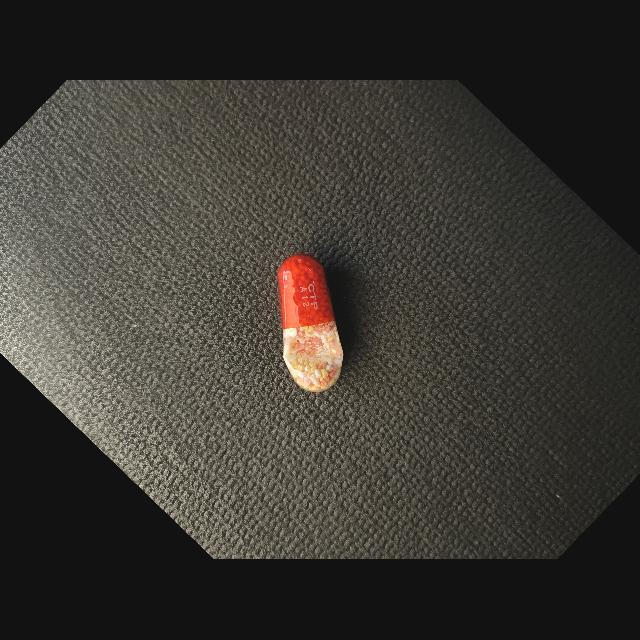Defective Capsule: (277, 255, 343, 393)
